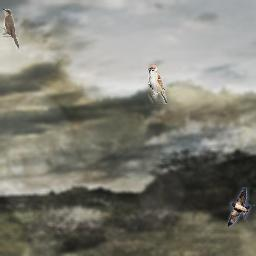Cuckoo: (3, 9, 19, 49)
Sparrow: (148, 64, 167, 104)
Swallow: (228, 187, 255, 227)
